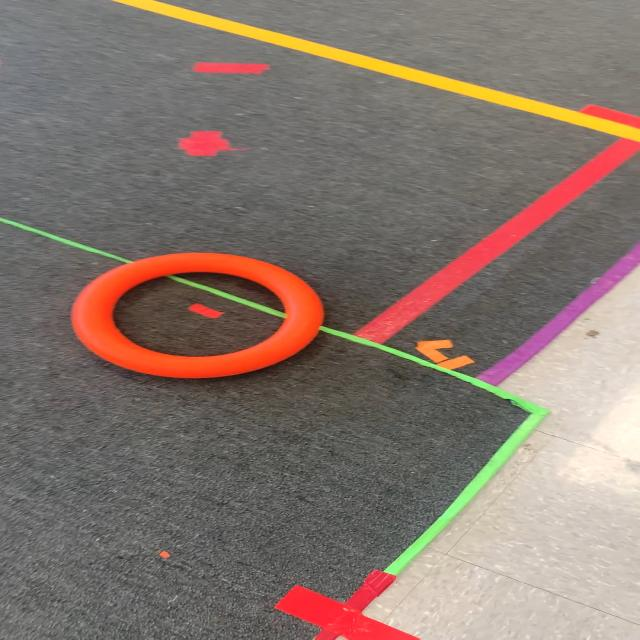notes: (66, 249, 321, 383)
